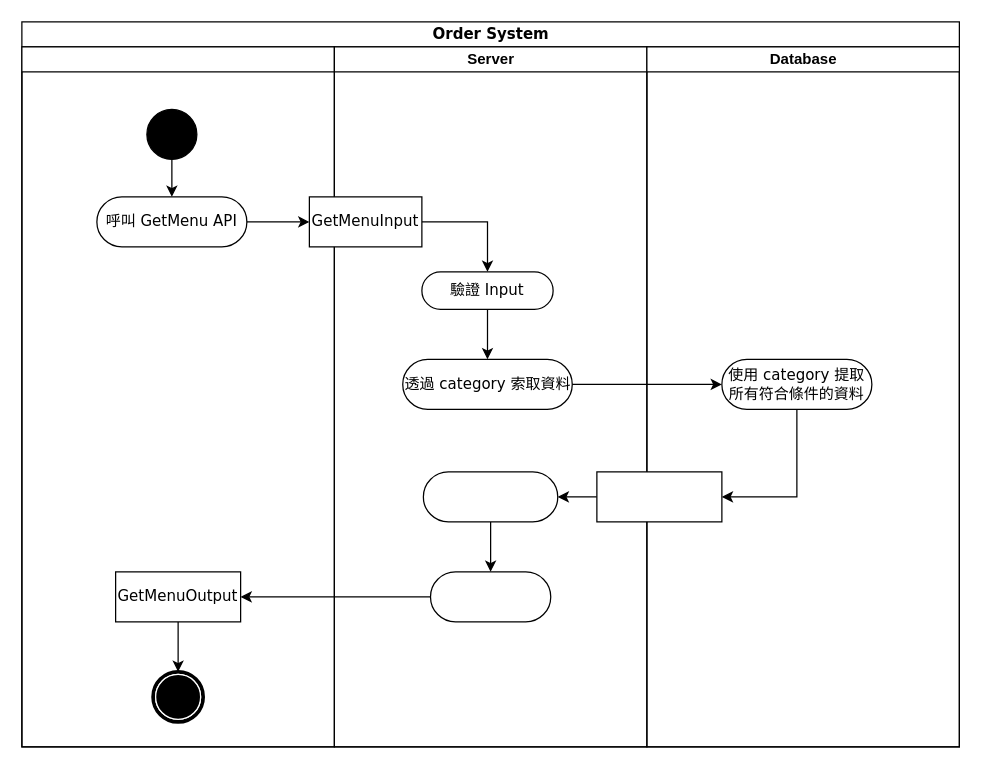
Image size: 981x769. Some labels were removed from this diagram. Here are the shapes that lost their labels. From the top down, the box of each, then its label:
(21, 46, 334, 747): Client
(422, 471, 558, 522): 將資料轉為輸出所需的形式
(596, 471, 722, 522): Database item
(429, 571, 551, 622): 返回資料
